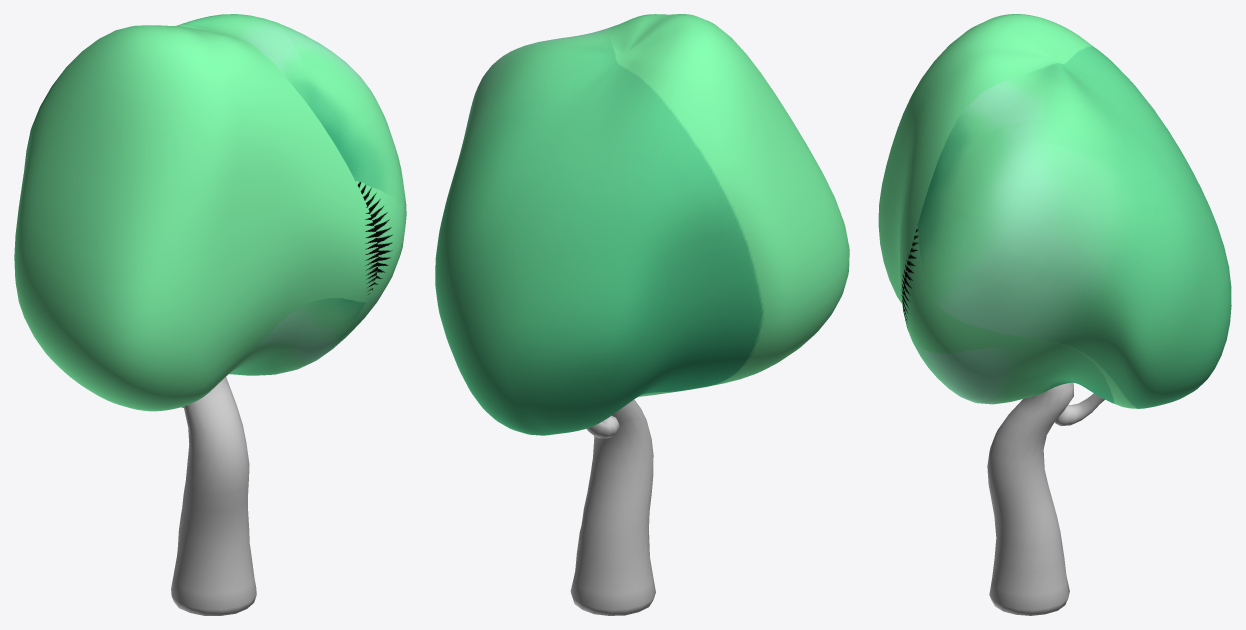
Rendered from tree 3.fbx.
3 renders of one model, left to right at view 1: azimuth 30°, elevation 25°; view 2: azimuth 150°, elevation 25°; view 3: azimuth 270°, elevation 25°, orthographic. The views are drawn at different scales.
Visible parts, largest first — view 1: Sphere, Cylinder; view 2: Sphere, Cylinder; view 3: Sphere, Cylinder.
Boxes of the visible parts, x1,y1,x2,y2 form: Sphere: [14, 14, 406, 411]; Cylinder: [171, 377, 256, 615]; Sphere: [435, 14, 849, 435]; Cylinder: [570, 399, 655, 615]; Sphere: [878, 14, 1231, 408]; Cylinder: [987, 382, 1104, 615].
Bounding box in the file's own units: 603 × 994 × 574.
